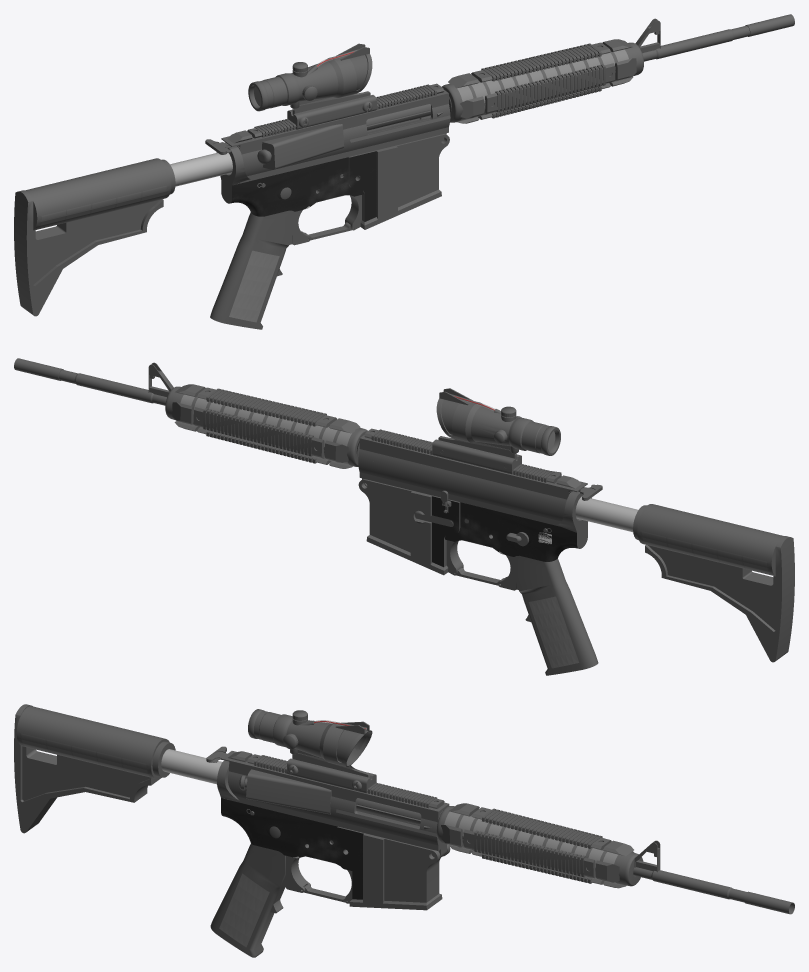
Rendered from AR15_custom_acog.gltf.
3 renders of one model, top to bottom at view 1: azimuth 30°, elevation 25°; view 2: azimuth 150°, elevation 25°; view 3: azimuth 330°, elevation 25°, orthographic.
Parts seen in each view (by area): view 1: 3DGeom-288, 3DGeom-242, 3DGeom-286, 3DGeom-267, 3DGeom-274, 3DGeom-283, 3DGeom-6, 3DGeom-29, 3DGeom-284, 3DGeom-260, 3DGeom-34, 3DGeom-287 (+10 smaller); view 2: 3DGeom-243, 3DGeom-288, 3DGeom-286, 3DGeom-267, 3DGeom-274, 3DGeom-283, 3DGeom-6, 3DGeom-285, 3DGeom-260, 3DGeom-287, 3DGeom-34, 3DGeom-9 (+6 smaller); view 3: 3DGeom-288, 3DGeom-267, 3DGeom-286, 3DGeom-242, 3DGeom-274, 3DGeom-283, 3DGeom-6, 3DGeom-29, 3DGeom-260, 3DGeom-284, 3DGeom-34, 3DGeom-287 (+13 smaller).
Part boxes in pixels (left/top/right/bottom): 3DGeom-288: left=14, top=190, right=163, bottom=316; 3DGeom-242: left=221, top=90, right=450, bottom=183; 3DGeom-286: left=25, top=158, right=175, bottom=230; 3DGeom-267: left=348, top=133, right=449, bottom=229; 3DGeom-274: left=231, top=157, right=363, bottom=216; 3DGeom-283: left=210, top=210, right=294, bottom=329; 3DGeom-6: left=248, top=53, right=372, bottom=111; 3DGeom-29: left=262, top=124, right=344, bottom=169; 3DGeom-284: left=229, top=250, right=279, bottom=322; 3DGeom-260: left=642, top=14, right=794, bottom=61; 3DGeom-34: left=449, top=49, right=628, bottom=121; 3DGeom-287: left=38, top=186, right=166, bottom=228; 3DGeom-243: left=358, top=438, right=576, bottom=526; 3DGeom-288: left=645, top=536, right=794, bottom=662; 3DGeom-286: left=633, top=504, right=783, bottom=576; 3DGeom-267: left=358, top=478, right=460, bottom=575; 3DGeom-274: left=445, top=502, right=577, bottom=561; 3DGeom-283: left=514, top=555, right=598, bottom=675; 3DGeom-6: left=436, top=398, right=560, bottom=455; 3DGeom-285: left=528, top=596, right=579, bottom=668; 3DGeom-260: left=14, top=358, right=166, bottom=405; 3DGeom-287: left=642, top=531, right=769, bottom=574; 3DGeom-34: left=180, top=394, right=351, bottom=465; 3DGeom-9: left=432, top=436, right=521, bottom=474; 3DGeom-288: left=14, top=704, right=161, bottom=833; 3DGeom-267: left=337, top=826, right=450, bottom=910; 3DGeom-286: left=16, top=706, right=175, bottom=778; 3DGeom-242: left=221, top=751, right=449, bottom=857; 3DGeom-274: left=221, top=798, right=352, bottom=870; 3DGeom-283: left=210, top=844, right=285, bottom=957; 3DGeom-6: left=248, top=709, right=372, bottom=766; 3DGeom-29: left=246, top=769, right=331, bottom=814; 3DGeom-260: left=633, top=867, right=794, bottom=914; 3DGeom-284: left=219, top=873, right=269, bottom=947; 3DGeom-34: left=444, top=811, right=617, bottom=883; 3DGeom-287: left=21, top=733, right=149, bottom=776.
Size of the model in its own units: 103 by 32.65 by 5.91.
Materials: 11 (1 with a texture image).
